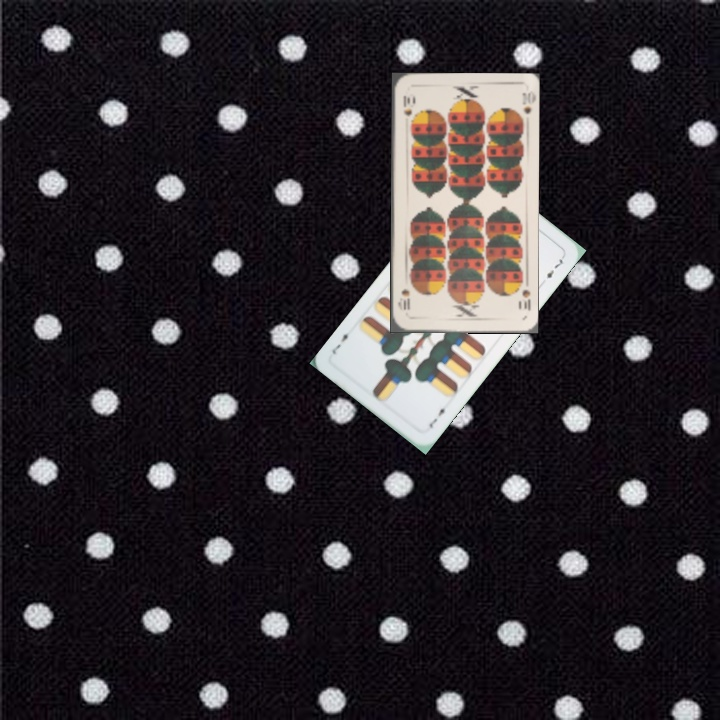E7: (425, 401, 451, 430)
S10: (399, 91, 414, 119), (518, 285, 533, 313)
